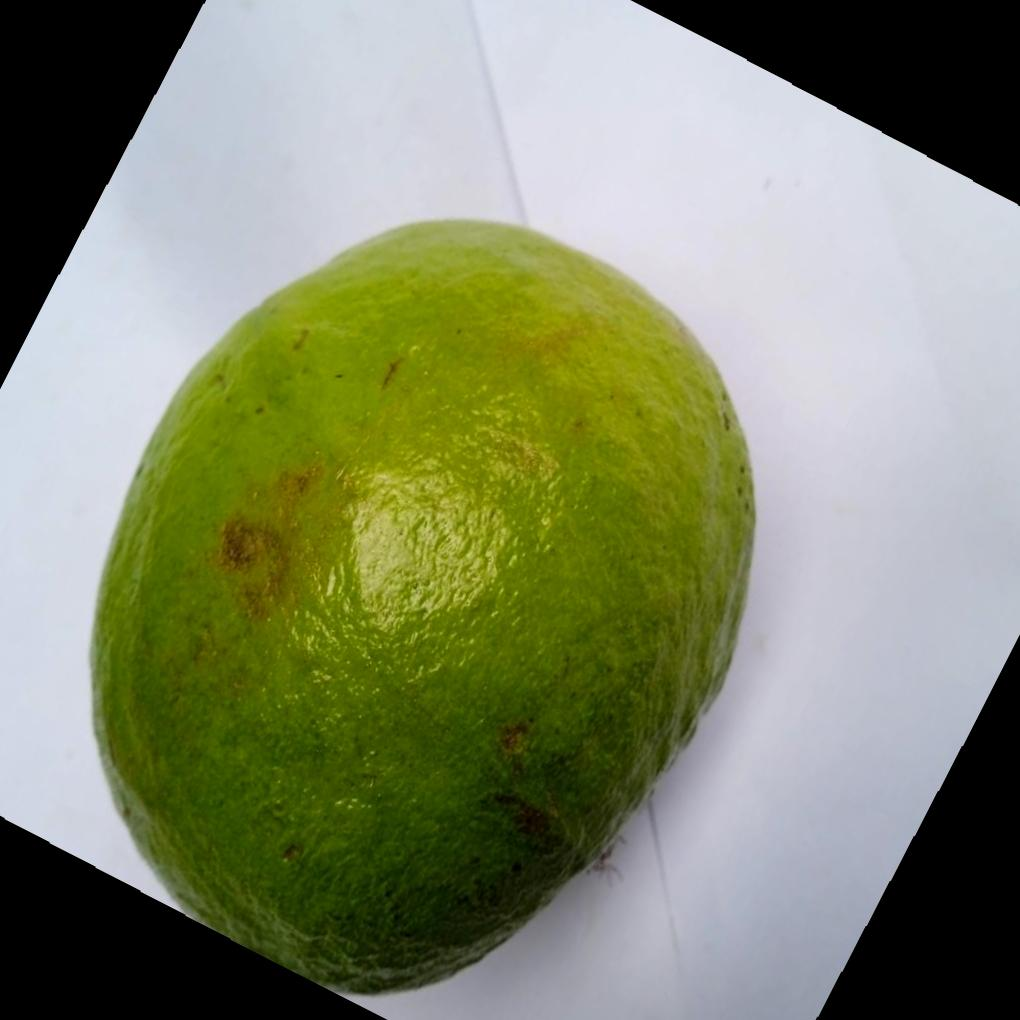FreshGuava: (92, 217, 760, 998)
